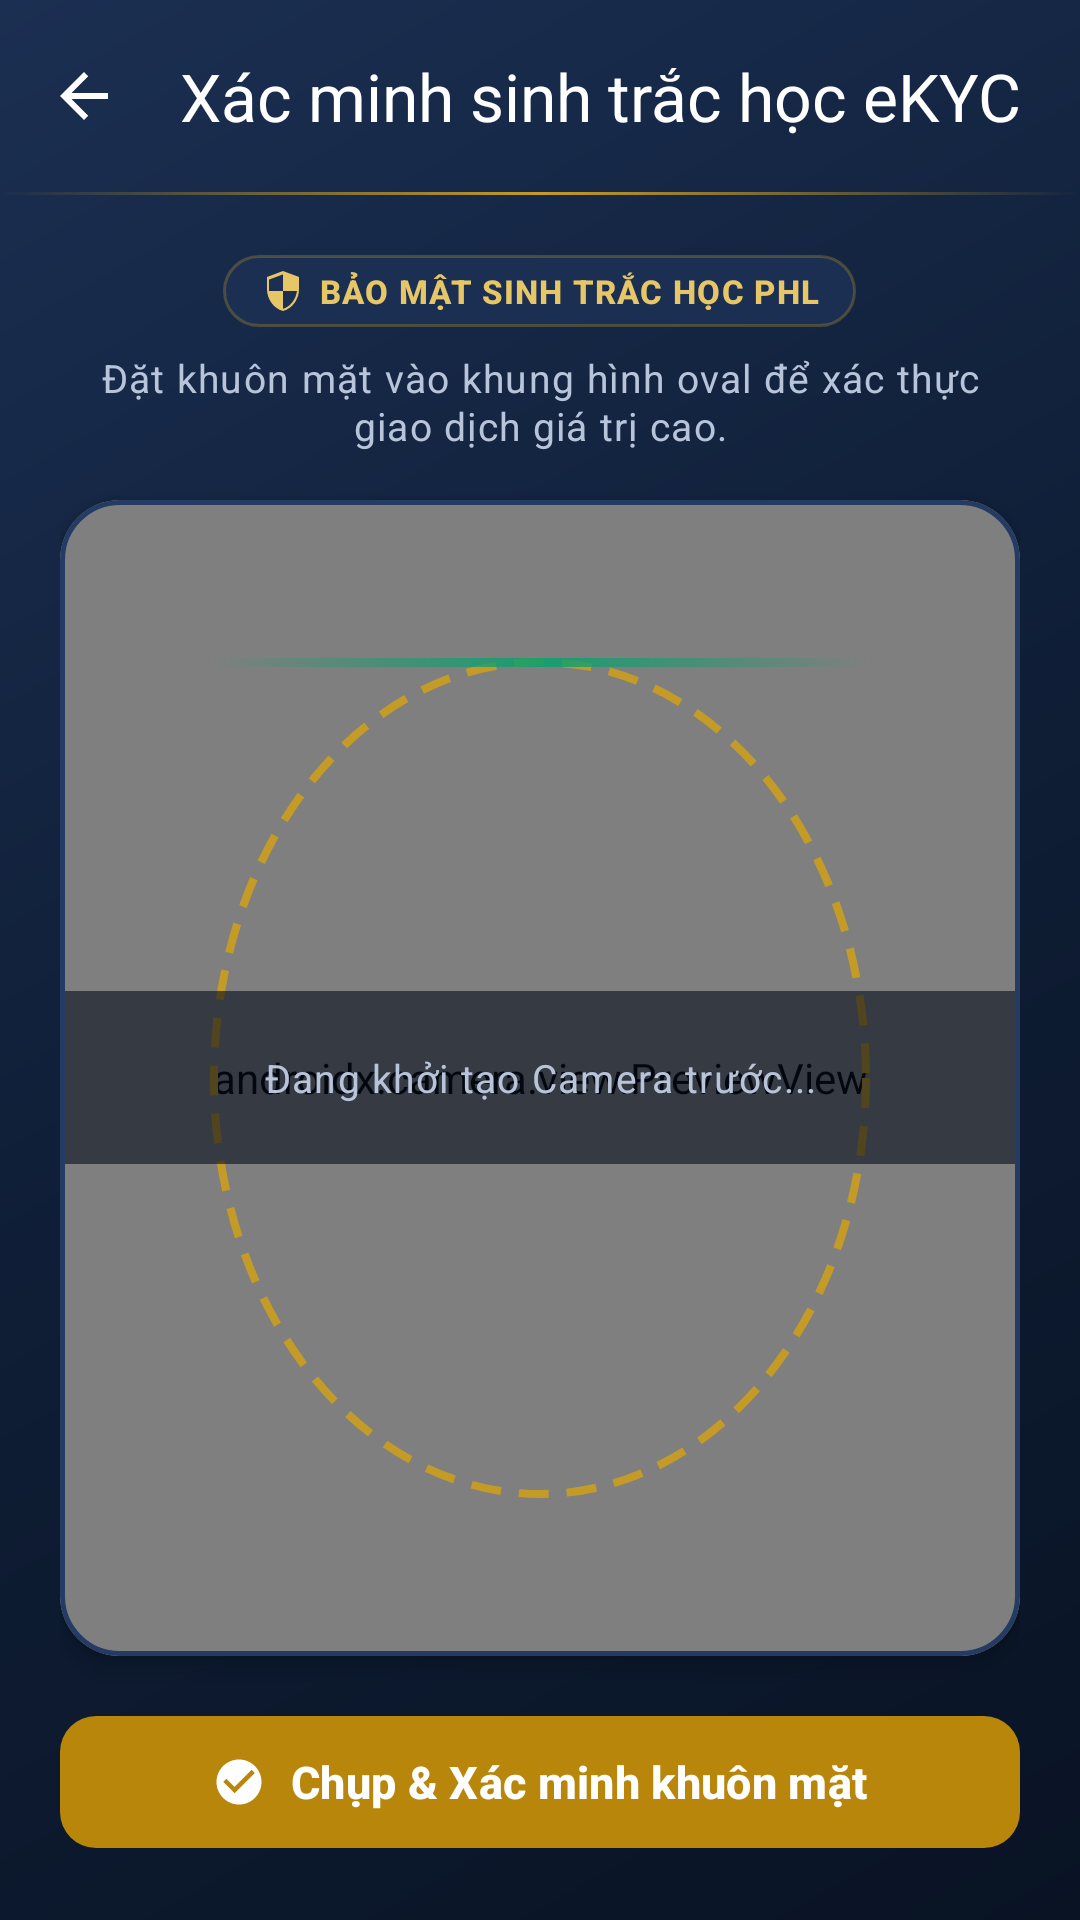

Where icons sit on this 1080 × 1920 app screen, as (x1, y1, x2, y2):
phl shield: (267, 271, 299, 311)
